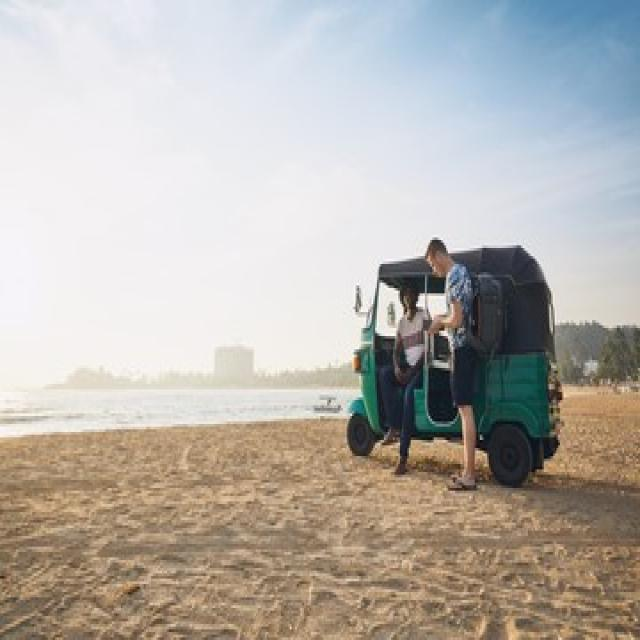person: (425, 237, 480, 491), (380, 283, 427, 475)
three wheeler: (347, 245, 558, 485)
